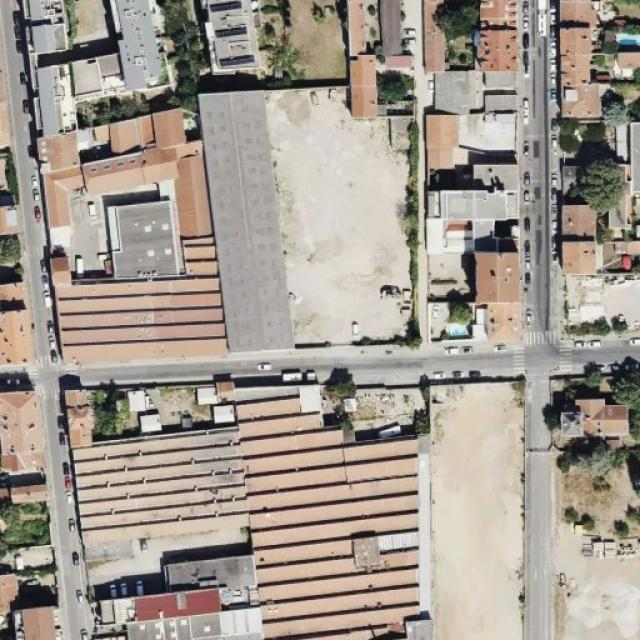immeuble: (35, 107, 232, 244), (548, 0, 626, 136), (199, 0, 266, 91), (29, 61, 124, 125), (554, 385, 640, 447), (424, 174, 522, 228), (116, 0, 170, 96), (0, 380, 56, 471), (0, 261, 42, 370), (15, 0, 86, 61), (336, 47, 387, 123), (420, 96, 454, 182), (557, 240, 605, 284), (554, 205, 601, 248)
maison: (462, 247, 530, 314), (462, 296, 530, 349)
piscine: (436, 312, 478, 344), (605, 25, 640, 50)
usine: (69, 350, 454, 640), (46, 223, 232, 362)
